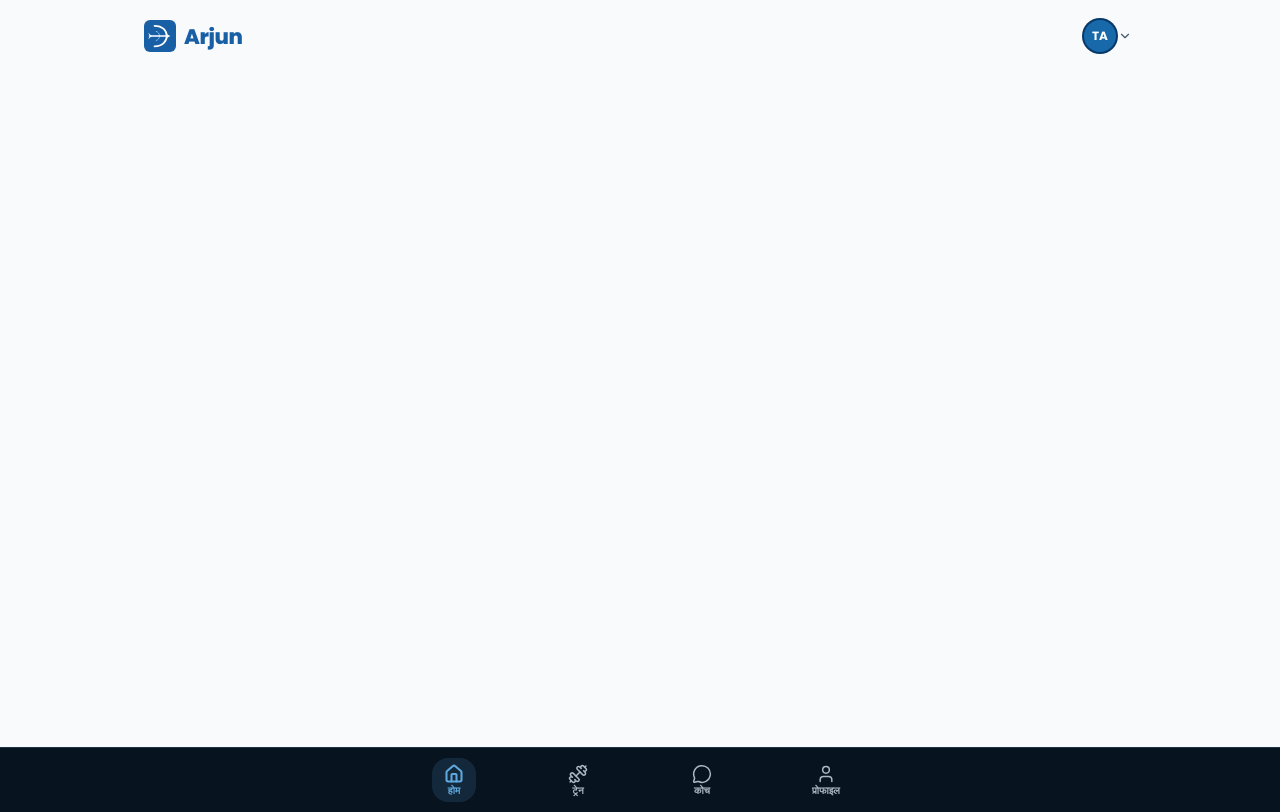
Scenario: Profile (bottom nav) vs. Settings (avatar menu) — distinct destinations › Hindi: avatar menu shows सेटिंग्स (Settings), not प्रोफाइल (Profile)
What coordinates should you click on to do the following:
click the button "TA"
I would click on:
 (1110, 36)
Its box is left=1078, top=14, right=1142, bottom=58.
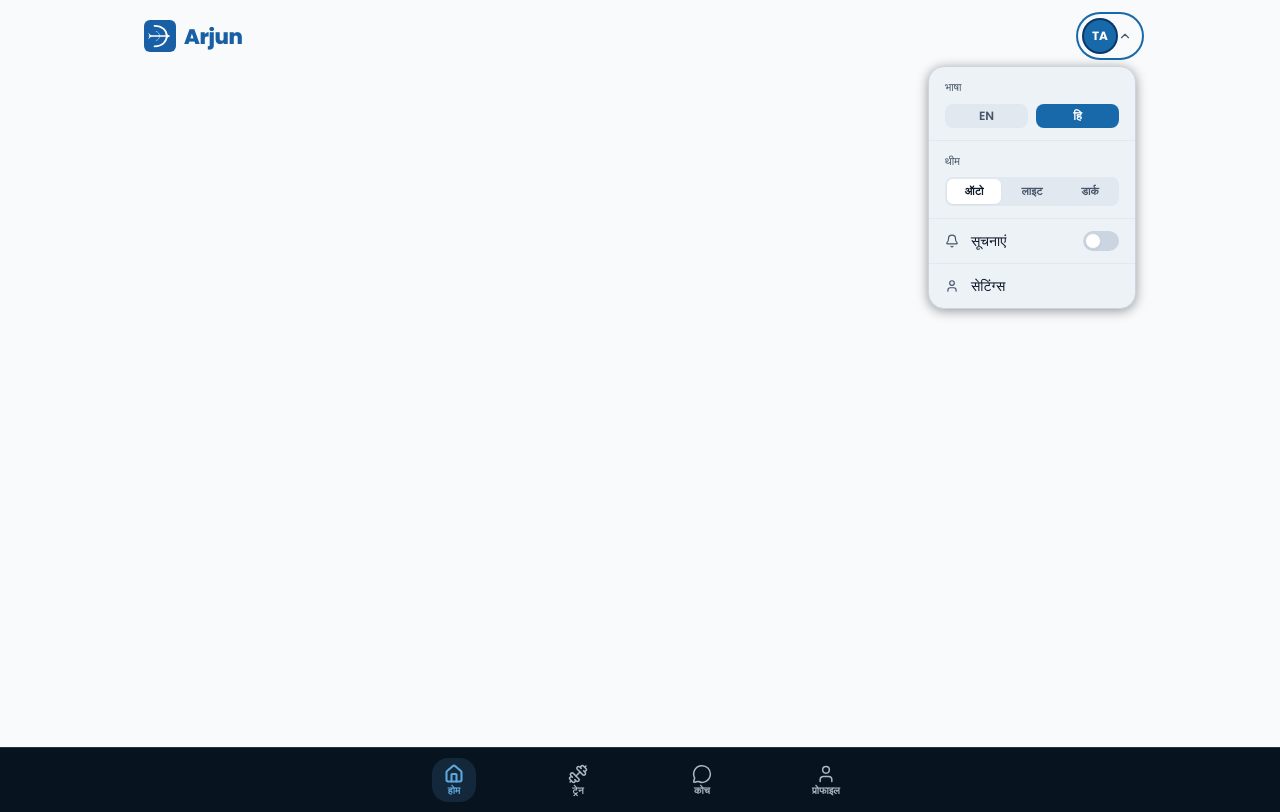
Expected: the link "प्रोफाइल" is shown, left=812, top=764, right=840, bottom=798
Expected: the button "सेटिंग्स" is shown, left=929, top=264, right=1135, bottom=308
